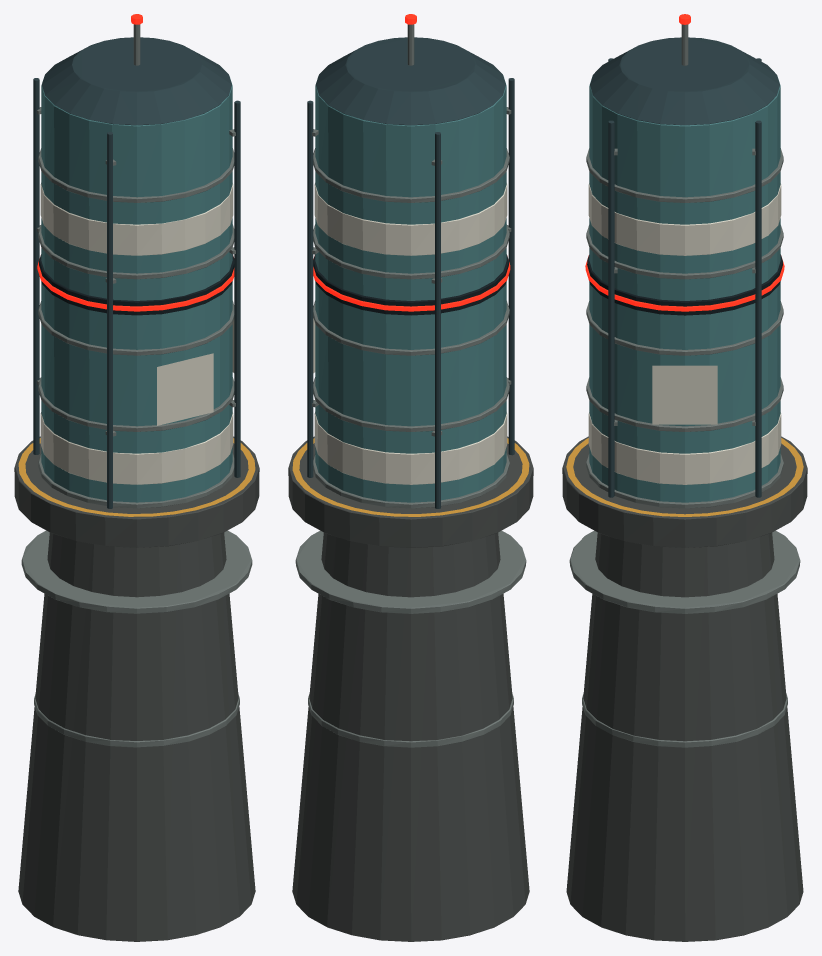
Rendered from core-spindle.glb.
The picture shows the model from 3 angles, left to right: view 1: azimuth 30°, elevation 25°; view 2: azimuth 150°, elevation 25°; view 3: azimuth 270°, elevation 25°; orthographic projection.
Parts seen in each view (by area): view 1: core-spindle__core-spindle__concrete-dark, core-spindle__core-spindle__petrol, core-spindle__core-spindle__steel, core-spindle__core-spindle__hardware, core-spindle__core-spindle__ivory, core-spindle__core-spindle__decal-ivory, core-spindle__core-spindle__rubber, core-spindle__core-spindle__amber, core-spindle__core-spindle__danger-red; view 2: core-spindle__core-spindle__concrete-dark, core-spindle__core-spindle__petrol, core-spindle__core-spindle__steel, core-spindle__core-spindle__hardware, core-spindle__core-spindle__ivory, core-spindle__core-spindle__rubber, core-spindle__core-spindle__amber, core-spindle__core-spindle__danger-red; view 3: core-spindle__core-spindle__concrete-dark, core-spindle__core-spindle__petrol, core-spindle__core-spindle__steel, core-spindle__core-spindle__hardware, core-spindle__core-spindle__ivory, core-spindle__core-spindle__decal-ivory, core-spindle__core-spindle__rubber, core-spindle__core-spindle__amber, core-spindle__core-spindle__danger-red.
Part boxes in pixels (x1,y1,x2,y2): core-spindle__core-spindle__concrete-dark: [14, 436, 259, 941]; core-spindle__core-spindle__petrol: [41, 76, 232, 502]; core-spindle__core-spindle__steel: [33, 37, 240, 508]; core-spindle__core-spindle__hardware: [21, 24, 252, 747]; core-spindle__core-spindle__ivory: [40, 183, 233, 484]; core-spindle__core-spindle__decal-ivory: [157, 319, 234, 425]; core-spindle__core-spindle__rubber: [39, 254, 234, 315]; core-spindle__core-spindle__amber: [18, 438, 255, 516]; core-spindle__core-spindle__danger-red: [37, 14, 234, 311]; core-spindle__core-spindle__concrete-dark: [288, 436, 533, 941]; core-spindle__core-spindle__petrol: [315, 75, 506, 502]; core-spindle__core-spindle__steel: [307, 37, 514, 508]; core-spindle__core-spindle__hardware: [295, 24, 526, 747]; core-spindle__core-spindle__ivory: [314, 183, 507, 484]; core-spindle__core-spindle__rubber: [313, 254, 508, 315]; core-spindle__core-spindle__amber: [292, 438, 529, 516]; core-spindle__core-spindle__danger-red: [313, 14, 510, 311]; core-spindle__core-spindle__concrete-dark: [562, 436, 807, 941]; core-spindle__core-spindle__petrol: [589, 76, 780, 502]; core-spindle__core-spindle__steel: [590, 37, 779, 497]; core-spindle__core-spindle__hardware: [569, 24, 800, 747]; core-spindle__core-spindle__ivory: [588, 183, 781, 484]; core-spindle__core-spindle__decal-ivory: [652, 365, 717, 424]; core-spindle__core-spindle__rubber: [587, 254, 782, 315]; core-spindle__core-spindle__amber: [566, 438, 803, 516]; core-spindle__core-spindle__danger-red: [585, 14, 784, 311].
Bounding box in the file's own units: 6.4 × 25.24 × 6.4.
